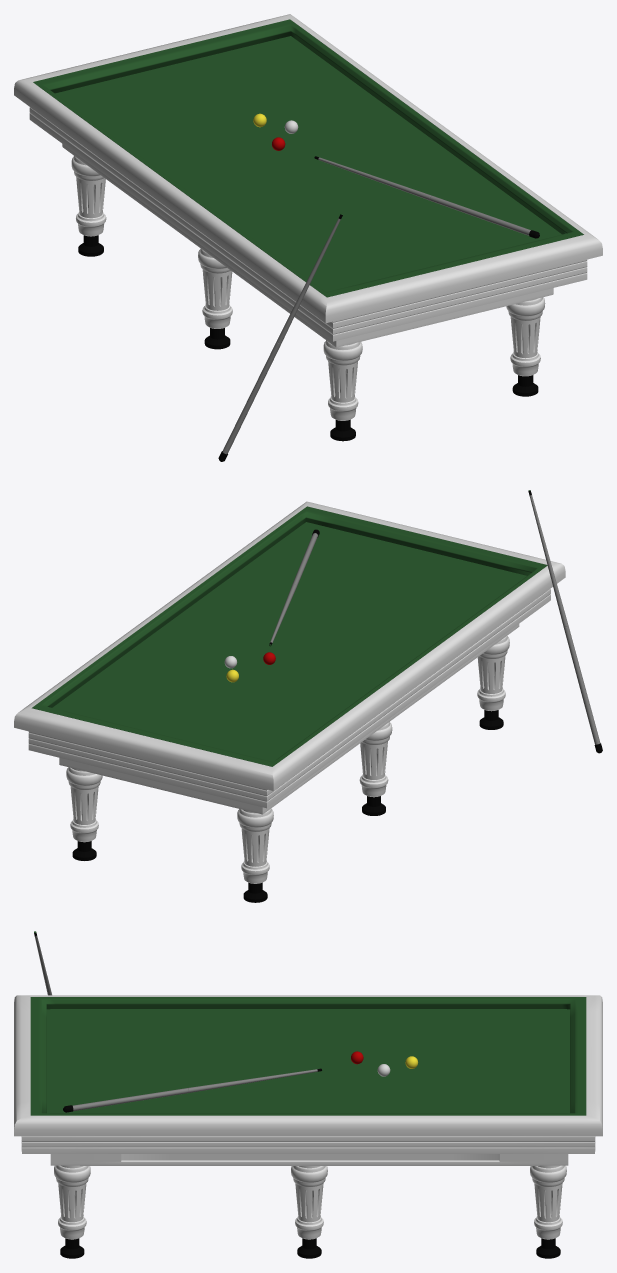
The model's file is Billard.FBX.
The picture shows the model from 3 angles, top to bottom: view 1: azimuth 30°, elevation 25°; view 2: azimuth 150°, elevation 25°; view 3: azimuth 270°, elevation 25°; orthographic projection. The views are drawn at different scales.
Parts seen in each view (by area): view 1: Object001, Default, Object002, Object003; view 2: Object001, Default, Object002, Object003; view 3: Object001, Default, Object003.
Boxes of the visible parts, bbox=[...] form: Object001: bbox=[33, 19, 583, 297]; Default: bbox=[14, 14, 602, 441]; Object002: bbox=[218, 213, 342, 461]; Object003: bbox=[314, 156, 539, 238]; Object001: bbox=[32, 506, 547, 766]; Default: bbox=[14, 501, 565, 902]; Object002: bbox=[528, 490, 602, 753]; Object003: bbox=[269, 529, 319, 646]; Object001: bbox=[30, 997, 586, 1115]; Default: bbox=[14, 995, 602, 1258]; Object003: bbox=[63, 1068, 322, 1112].
Bounding box in the file's own units: 25.37 × 16.71 × 39.08.
